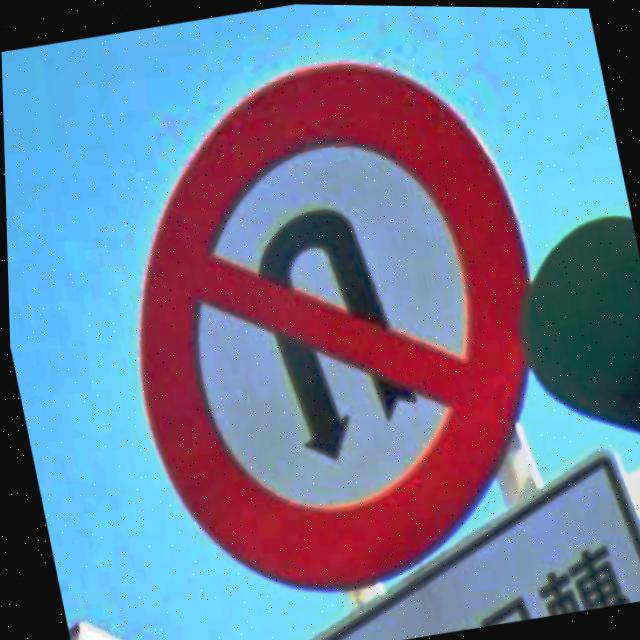nouturn: (137, 59, 529, 593)
